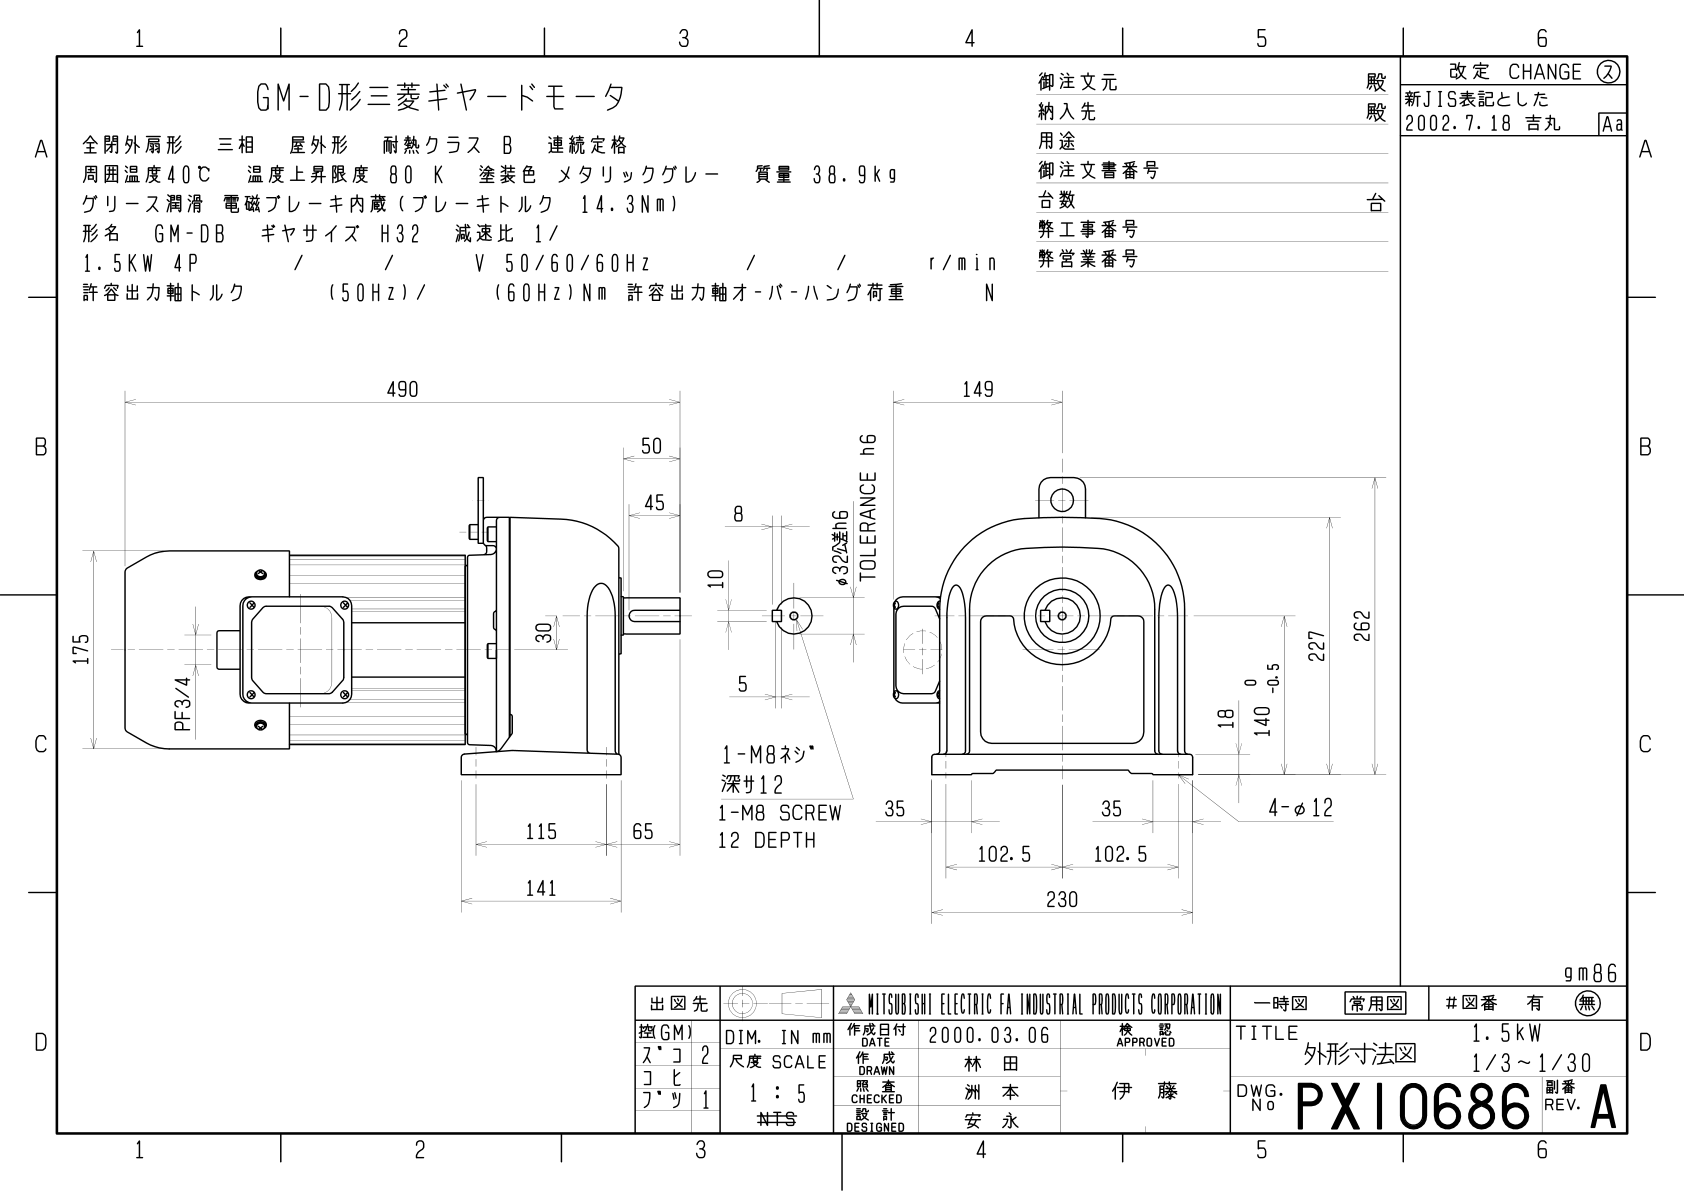GM_D_屋外＿三相_脚: (8, 14, 1684, 1191)
